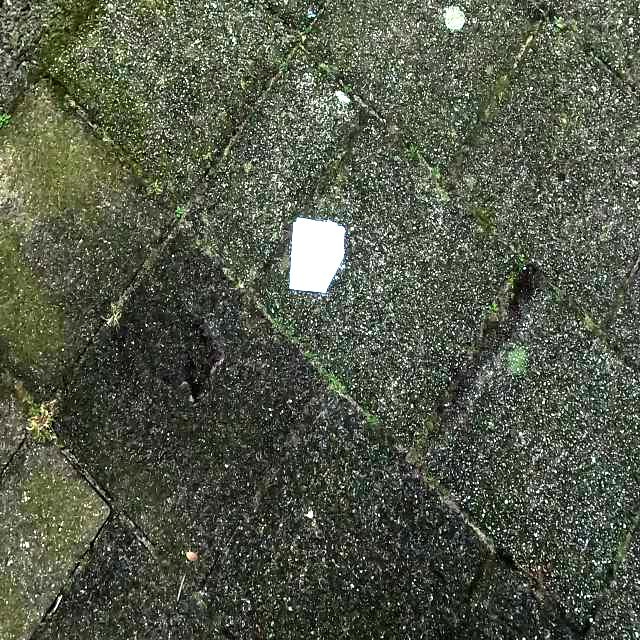Paper: (289, 216, 345, 294)
